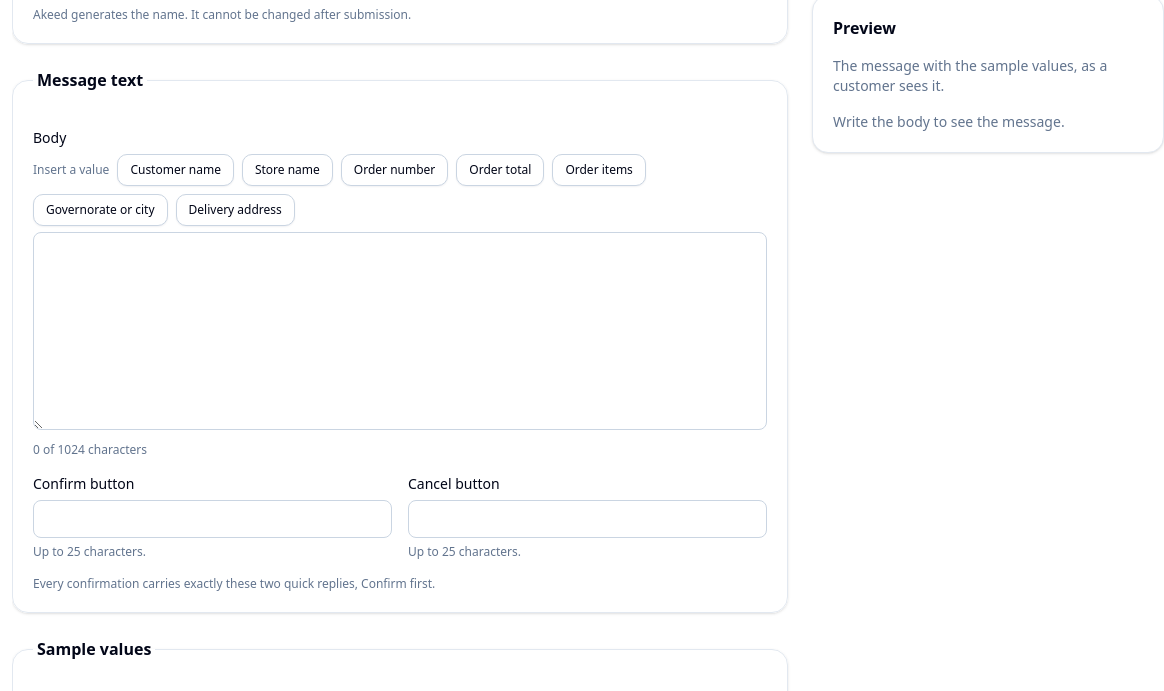
Test: TemplateDraftNewPage › offers only the supported values, and inserts one where the caret is
(page scrolled)
In the text box labelled "Body": x=400, y=331 [33,232,767,430], type "Hello , welcome"
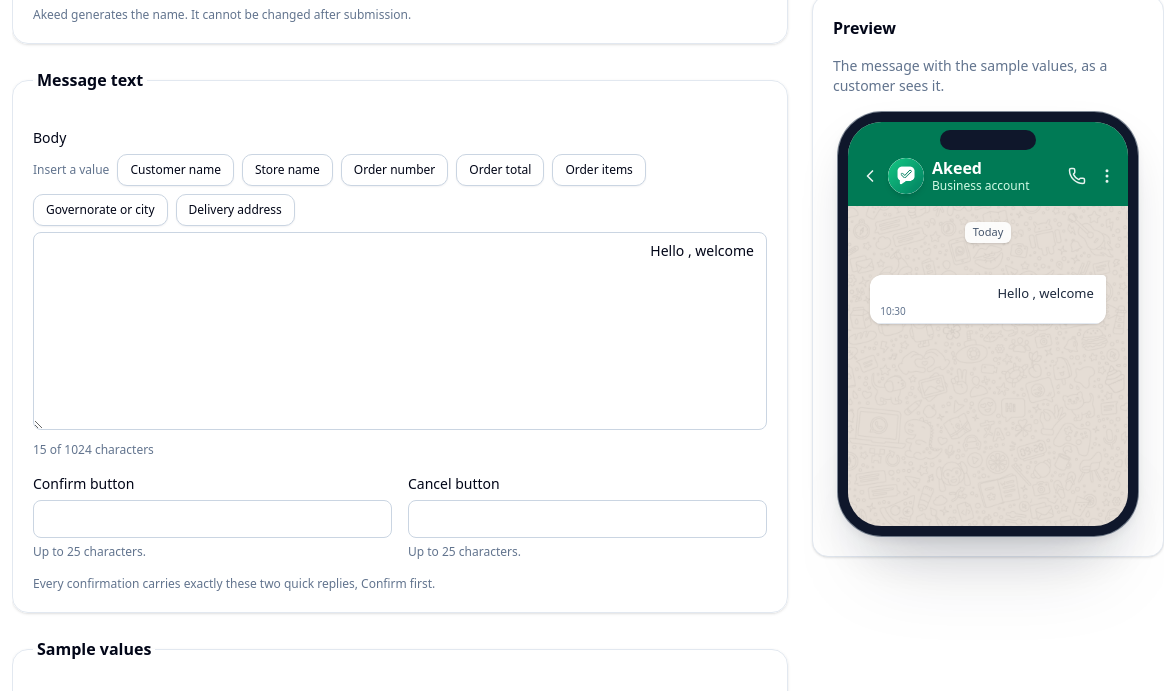
Click the button "Customer name": x=176, y=170 [117,154,234,186]
(page scrolled)
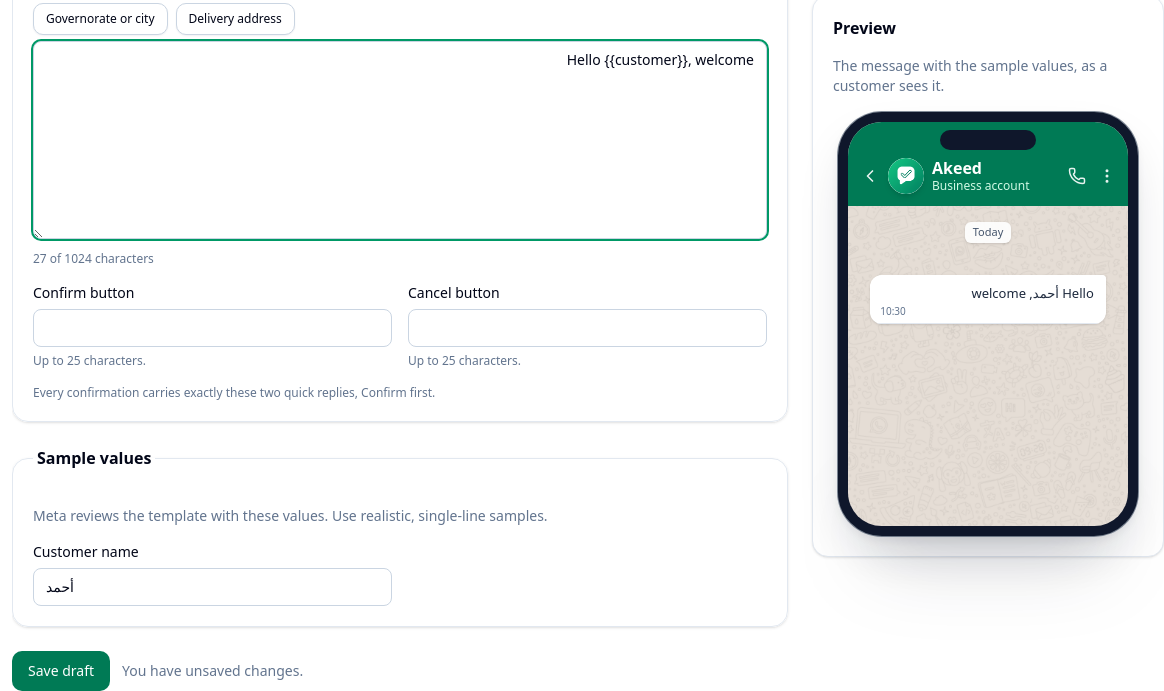
Expected: the text box labelled "Body" holds "Hello {{customer}}, welcome", [33,41,767,239]
Expected: the field labelled "Customer name" is shown, [33,568,392,606]
